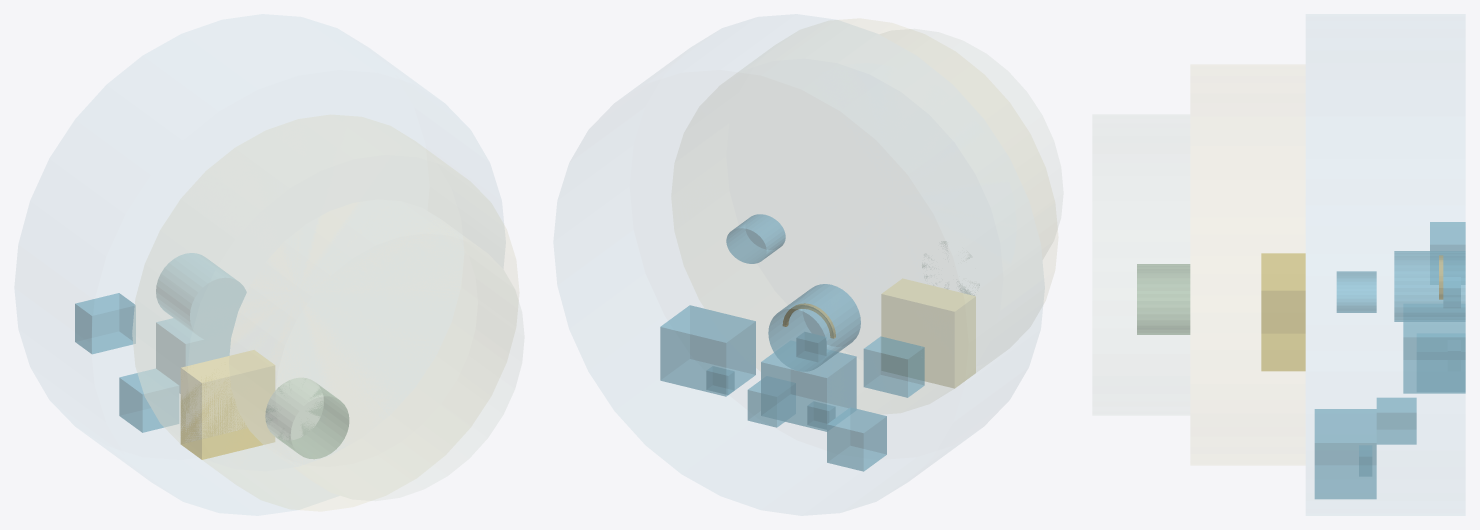
The model's file is station.glb.
The picture shows the model from 3 angles, left to right: view 1: azimuth 30°, elevation 25°; view 2: azimuth 150°, elevation 25°; view 3: azimuth 270°, elevation 25°; orthographic projection. The views are drawn at different scales.
Parts seen in each view (by area): view 1: M-L2-PLAZA-001, M-L1-AH-OLD-001, MOAG-G-0036, MOAG-G-0008, MOAG-G-0057, M-L1-FH-001; view 2: M-L2-PLAZA-001, M-L1-FH-002, M-L1-FH-001, M-L1-AH-OLD-001, MOAG-G-0008, MOAG-G-0057, MOAG-G-0009, M-L1-AH-OLD-CTRL-001, MOAG-G-0010, M-L1-FH-002-CTRL, M-L1-FH-001-CTRL; view 3: M-L1-FH-002, M-L2-PLAZA-001, M-L1-AH-OLD-001, M-L1-FH-001, MOAG-G-0036, MOAG-G-0010, MOAG-G-0009, MOAG-G-0057, M-L1-AH-OLD-CTRL-001.
Part boxes in pixels (x1,y1,x2,y2): M-L2-PLAZA-001: [180, 350, 274, 459]; M-L1-AH-OLD-001: [156, 253, 246, 340]; MOAG-G-0036: [265, 378, 349, 459]; MOAG-G-0008: [119, 369, 178, 432]; MOAG-G-0057: [75, 293, 135, 354]; M-L1-FH-001: [156, 318, 231, 393]; M-L2-PLAZA-001: [881, 278, 975, 388]; M-L1-FH-002: [660, 305, 755, 396]; M-L1-FH-001: [761, 352, 856, 431]; M-L1-AH-OLD-001: [768, 284, 860, 371]; MOAG-G-0008: [827, 407, 886, 471]; MOAG-G-0057: [863, 336, 924, 397]; MOAG-G-0009: [726, 214, 785, 263]; M-L1-AH-OLD-CTRL-001: [796, 332, 826, 361]; MOAG-G-0010: [747, 380, 784, 427]; M-L1-FH-002-CTRL: [706, 366, 734, 394]; M-L1-FH-001-CTRL: [807, 401, 835, 429]; M-L1-FH-002: [1314, 409, 1376, 499]; M-L2-PLAZA-001: [1261, 253, 1305, 371]; M-L1-AH-OLD-001: [1394, 251, 1465, 321]; M-L1-FH-001: [1403, 322, 1465, 393]; MOAG-G-0036: [1137, 264, 1190, 334]; MOAG-G-0010: [1376, 397, 1416, 444]; MOAG-G-0009: [1336, 271, 1376, 312]; MOAG-G-0057: [1430, 222, 1465, 250]; M-L1-AH-OLD-CTRL-001: [1443, 277, 1460, 307].
Size of the model in its own units: 113 by 113 by 84.
